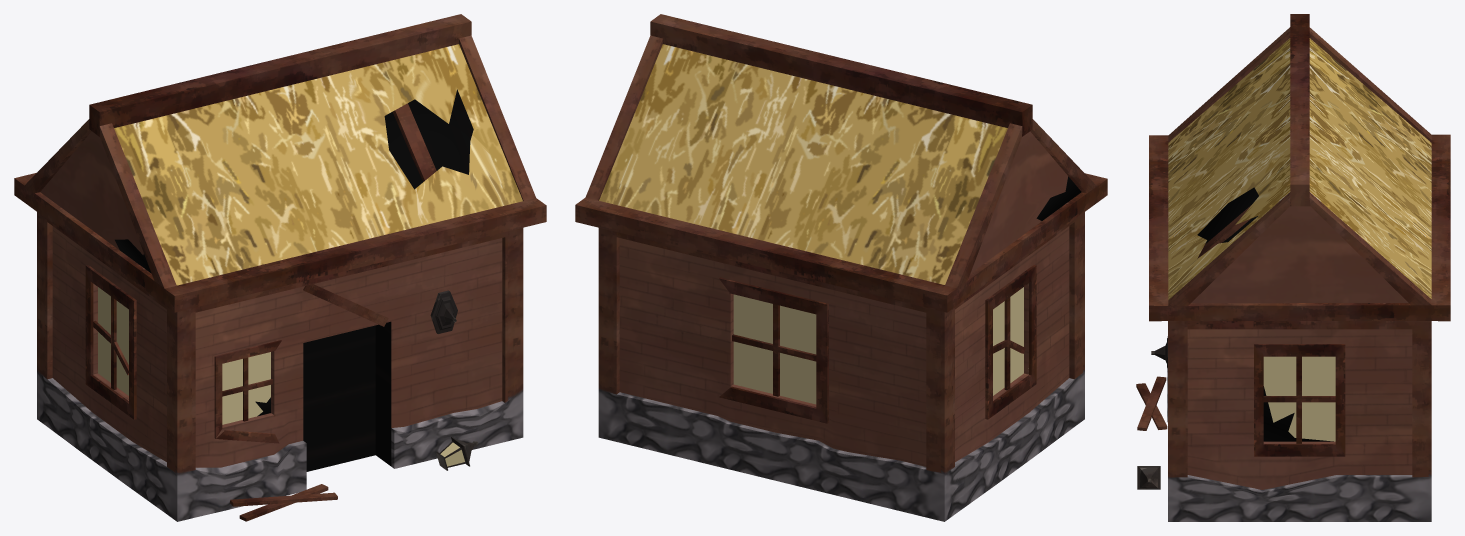
The model's file is House_Broken.fbx.
The picture shows the model from 3 angles, left to right: view 1: azimuth 30°, elevation 25°; view 2: azimuth 150°, elevation 25°; view 3: azimuth 270°, elevation 25°; orthographic projection. The views are drawn at different scales.
Visible parts, largest first — view 1: House_Broken; view 2: House_Broken; view 3: House_Broken.
Part boxes in pixels (x1,y1,x2,y2): House_Broken: (14, 14, 546, 521); House_Broken: (575, 14, 1107, 521); House_Broken: (1136, 14, 1450, 521).
Size of the model in its own units: 1399 by 1318 by 1090.
1 material, 1 textured.
